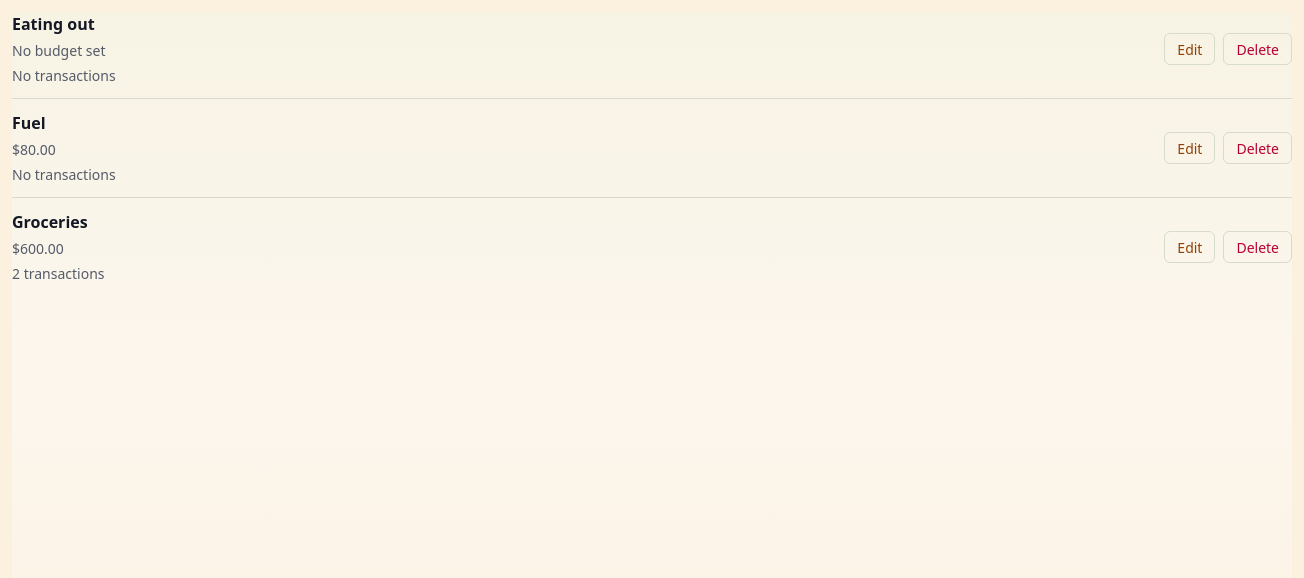
Scenario: deleting a category › blocks deleting a category that has transactions and explains why
The width and height of the screenshot is (1304, 578).
Click the button "Delete" in the row of "$600.00".
click(1258, 247)  # box 1223,231 -> 1292,263
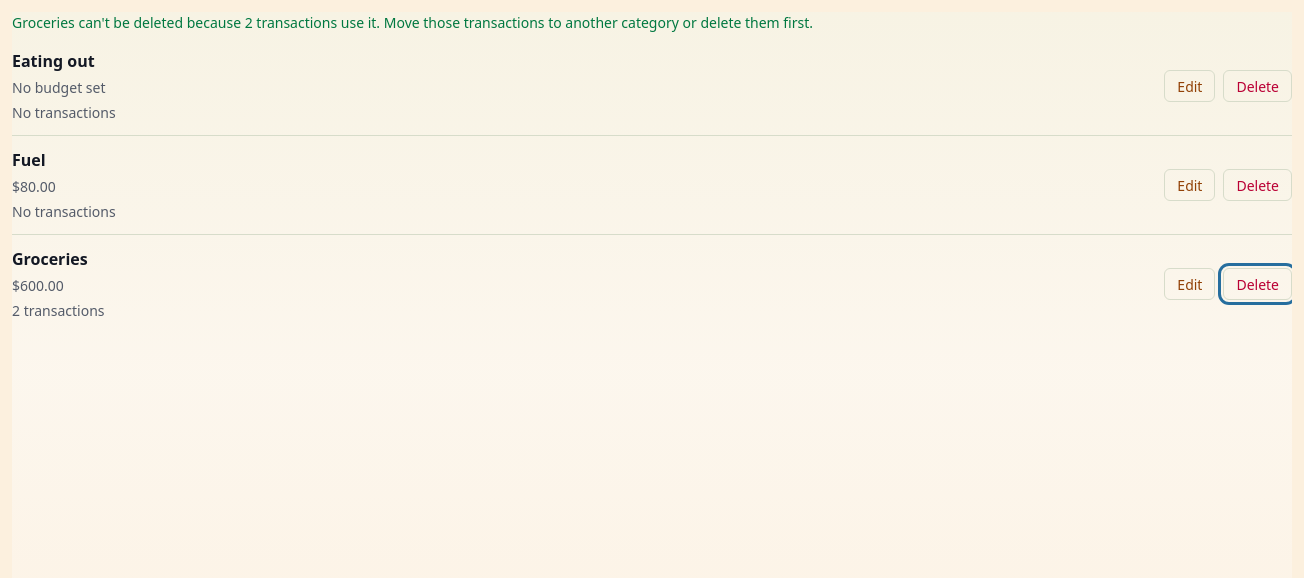
Expected: the number of list items is 3, 12,49 -> 1292,135; 12,135 -> 1292,234; 12,234 -> 1292,321
Expected: the message shows "Groceries can't be deleted because 2 transactions use it. Move those transactions to another category or delete them first.", 12,13 -> 813,32
